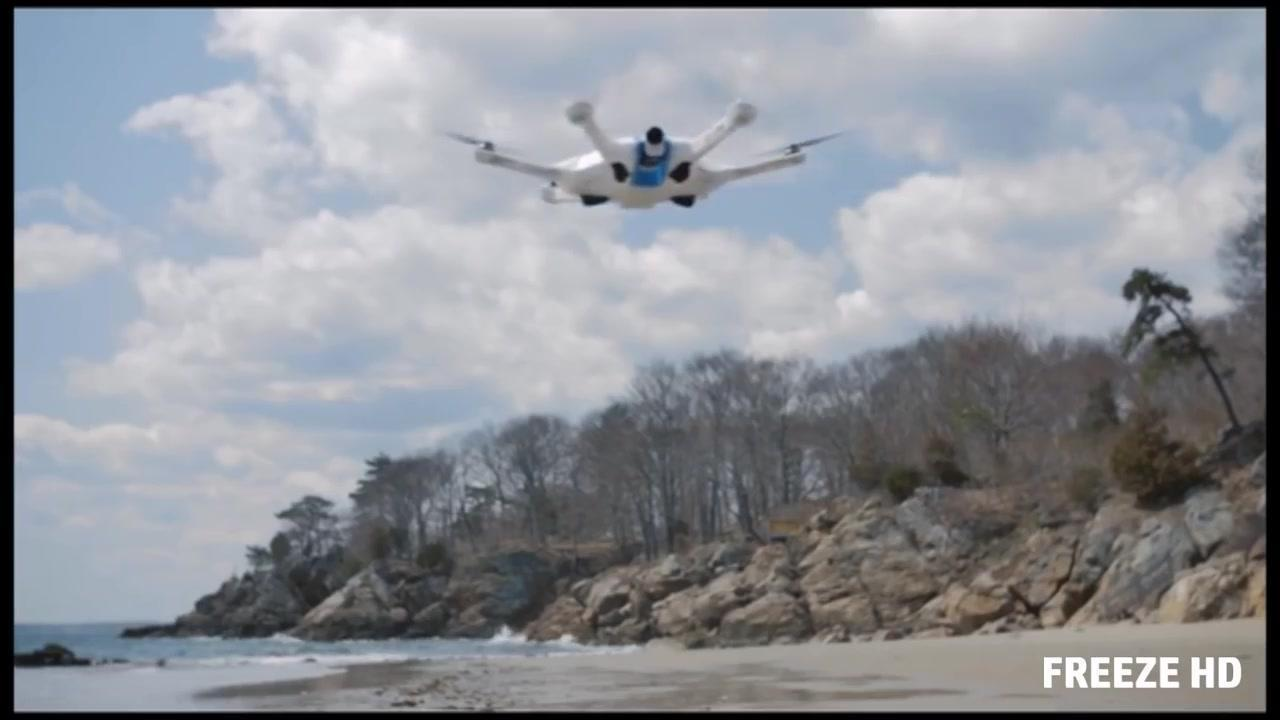UAV: (470, 99, 815, 217)
